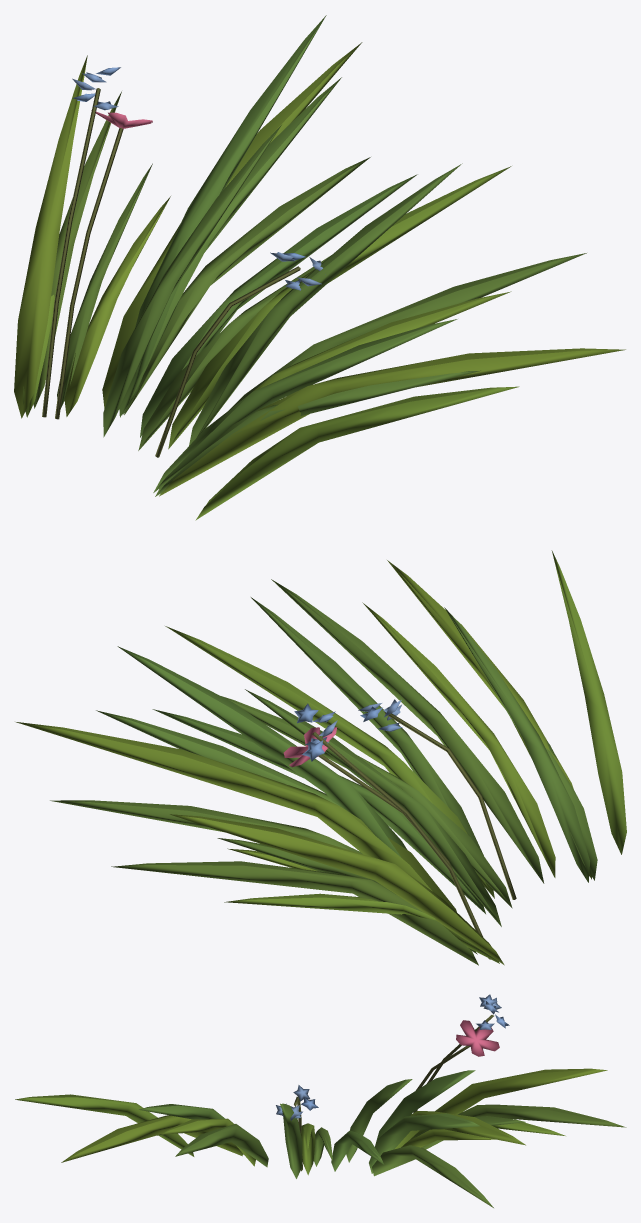
File: rim_grass_flowers.glb
The picture shows the model from 3 angles, top to bottom: view 1: azimuth 30°, elevation 25°; view 2: azimuth 150°, elevation 25°; view 3: azimuth 270°, elevation 25°; orthographic projection. The views are drawn at different scales.
Visible parts, largest first — view 1: Sammel Pflanze, Sammel Putz; view 2: Sammel Pflanze, Sammel Putz; view 3: Sammel Pflanze, Sammel Putz.
Part boxes in pixels (x1=…): Sammel Pflanze: x1=14, y1=15, x2=625, y2=520; Sammel Putz: x1=42, y1=88, x2=300, y2=457; Sammel Pflanze: x1=16, y1=550, x2=626, y2=965; Sammel Putz: x1=312, y1=712, x2=516, y2=959; Sammel Pflanze: x1=15, y1=994, x2=626, y2=1207; Sammel Putz: x1=294, y1=1015, x2=493, y2=1171.
Size of the model in its own units: 0.3458 by 0.2196 by 0.6022.
